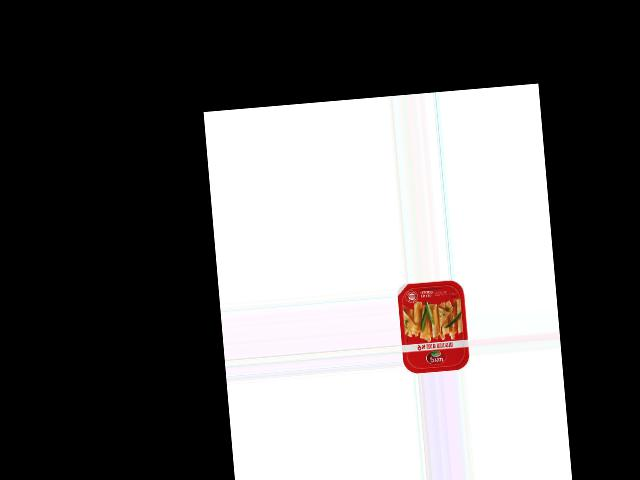cheese: (397, 279, 471, 374)
